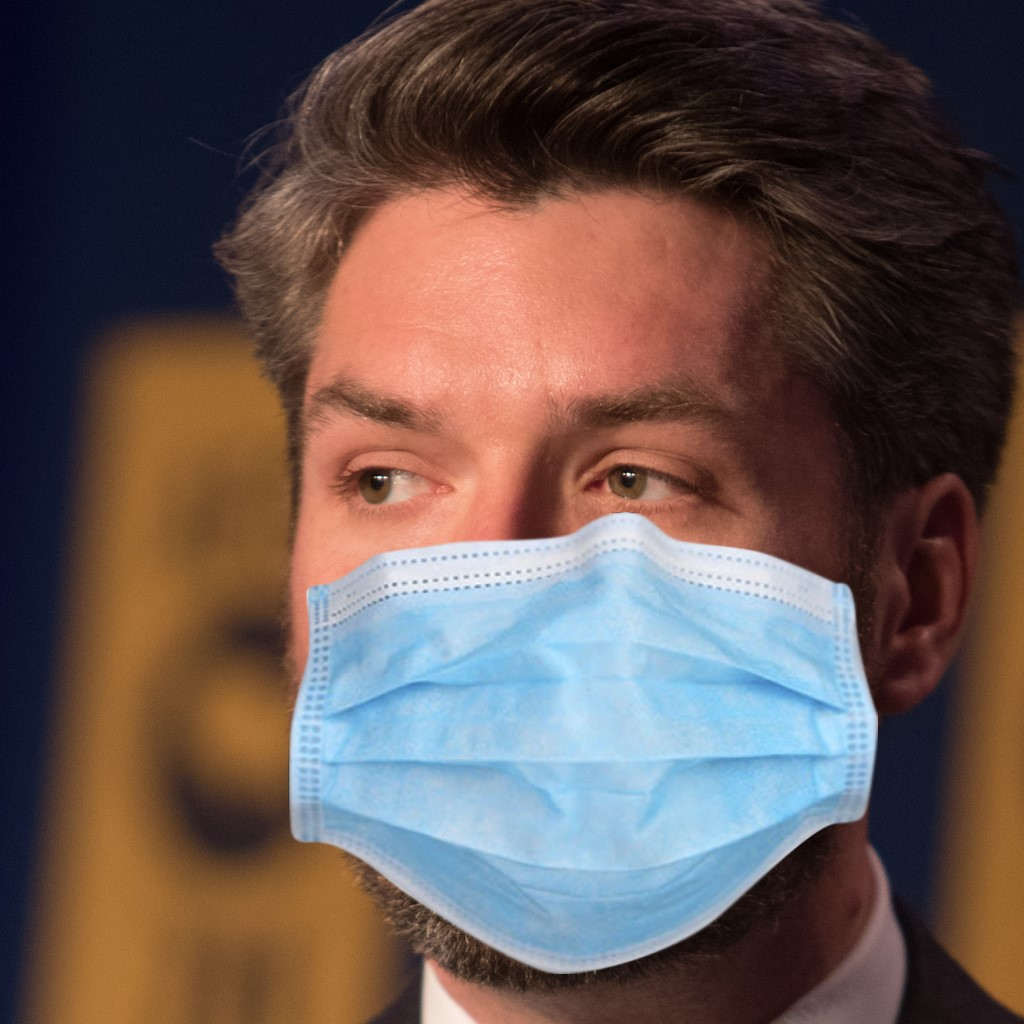con_mascara: (281, 136, 899, 987)
